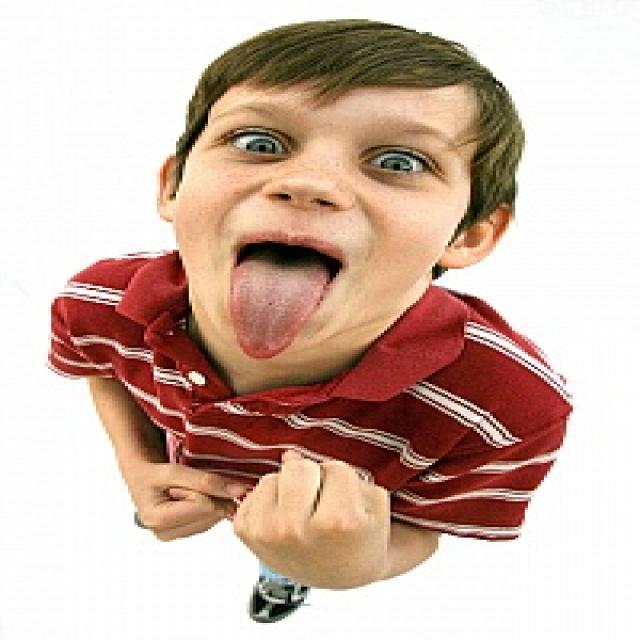Eyes: (217, 106, 454, 180)
